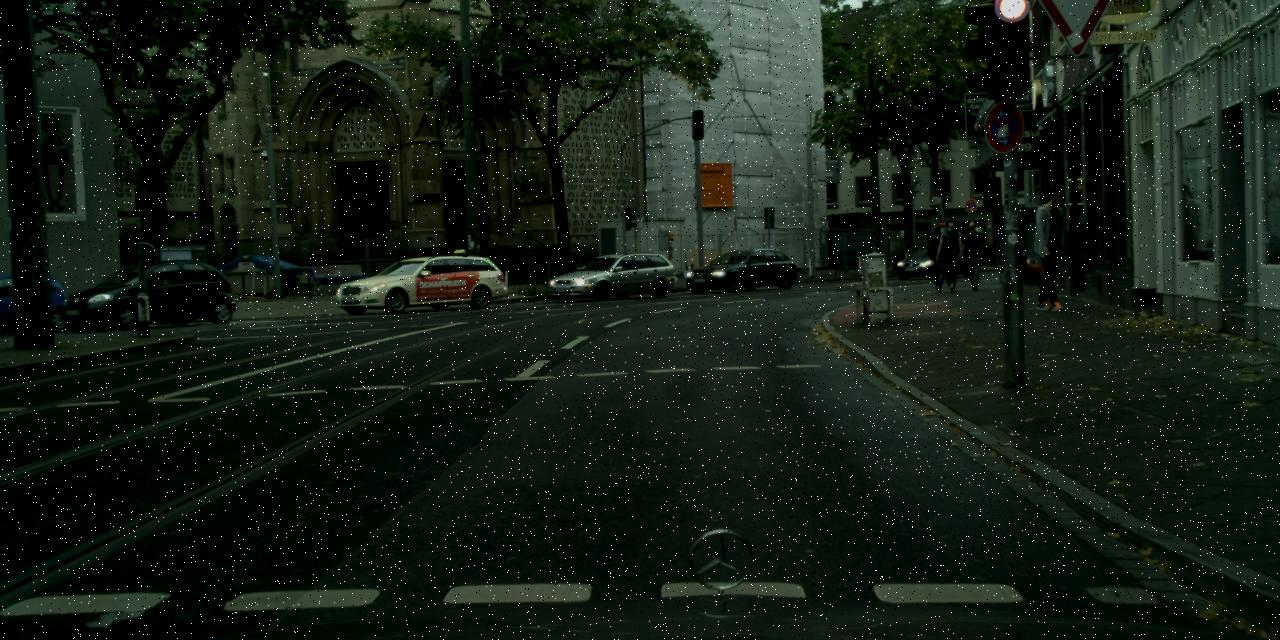ped: (1028, 188, 1078, 310), (937, 220, 966, 293), (959, 220, 986, 288), (924, 228, 950, 292)
